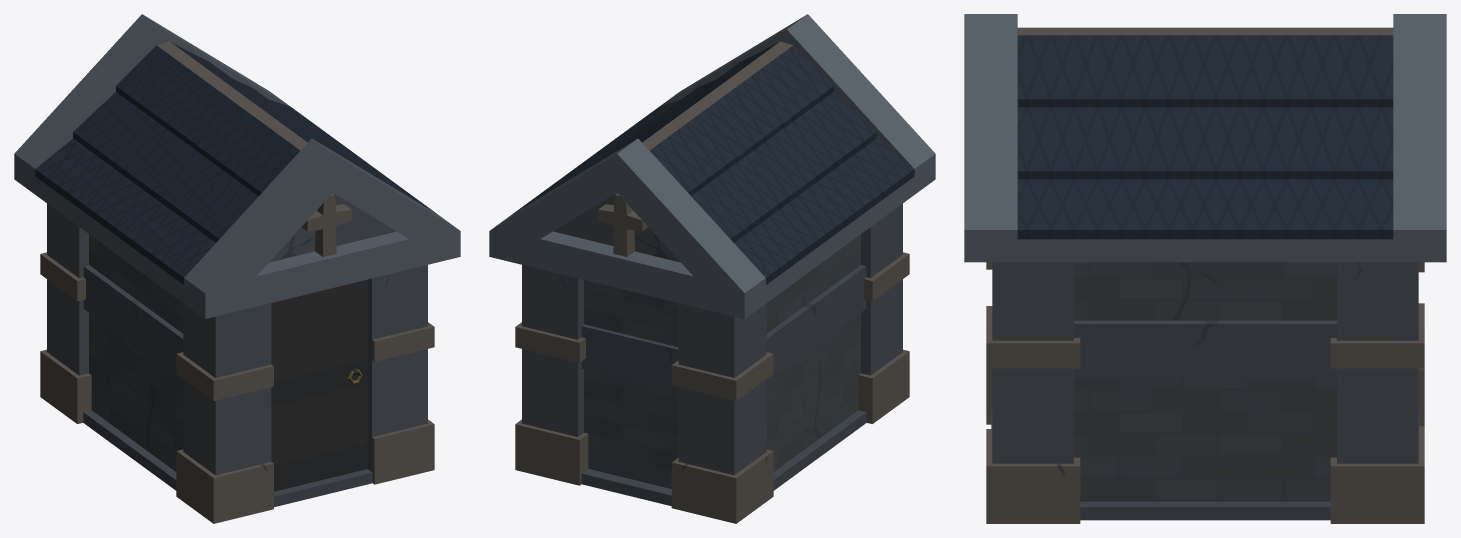
The model's file is Tomb 03.fbx.
3 renders of one model, left to right at view 1: azimuth 30°, elevation 25°; view 2: azimuth 150°, elevation 25°; view 3: azimuth 270°, elevation 25°, orthographic. The views are drawn at different scales.
Parts seen in each view (by area): view 1: Tomb_03; view 2: Tomb_03; view 3: Tomb_03.
Part boxes in pixels (x1=…): Tomb_03: x1=14, y1=14, x2=460, y2=523; Tomb_03: x1=489, y1=14, x2=935, y2=523; Tomb_03: x1=964, y1=14, x2=1446, y2=523.
Size of the model in its own units: 274 by 358 by 354.
